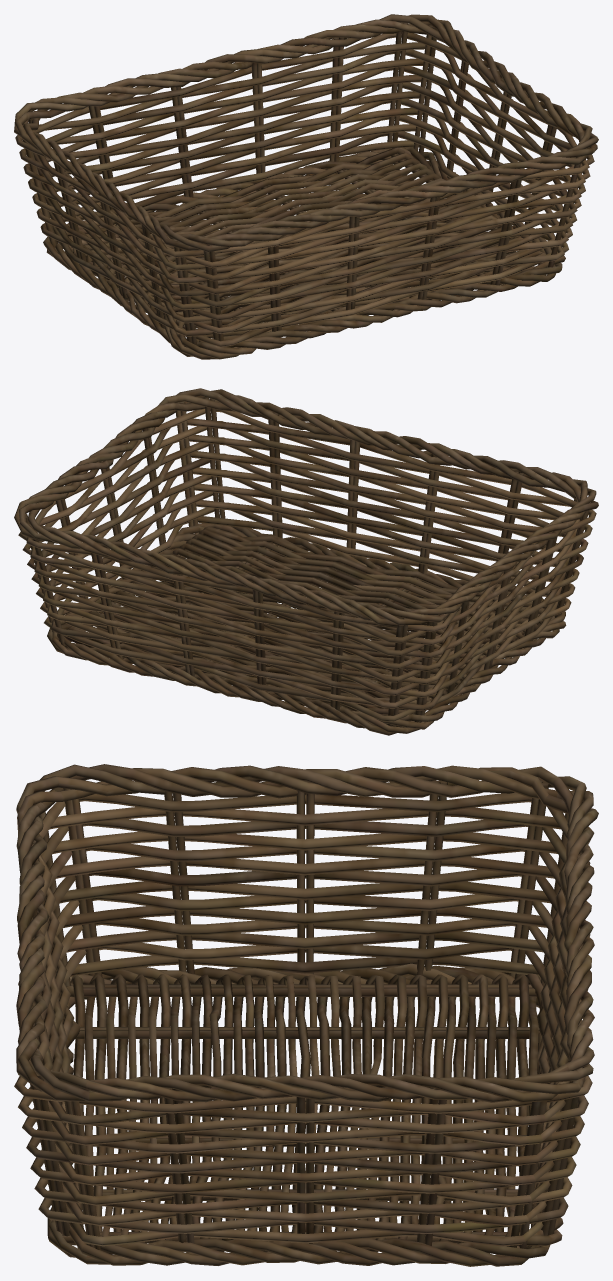
The model's file is wicker_basket_01.glb.
3 views of the same model, one above another, from view 1: azimuth 30°, elevation 25°; view 2: azimuth 150°, elevation 25°; view 3: azimuth 270°, elevation 25° (orthographic). The views are drawn at different scales.
Visible parts, largest first — view 1: wicker_basket_01; view 2: wicker_basket_01; view 3: wicker_basket_01.
Part boxes in pixels (bbox=[...]): wicker_basket_01: bbox=[14, 14, 598, 359]; wicker_basket_01: bbox=[14, 388, 598, 735]; wicker_basket_01: bbox=[14, 764, 598, 1266].
Bounding box in the file's own units: 0.3832 × 0.1174 × 0.295.
1 material, 1 textured.
